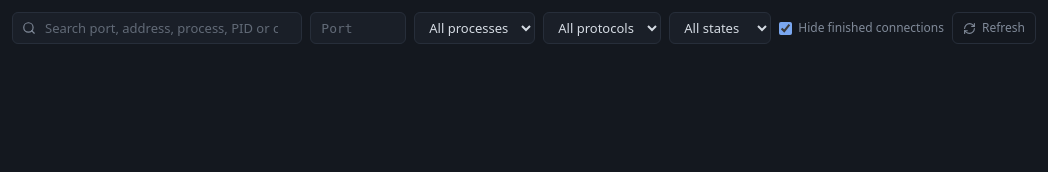
Test: PortsToolbar › offers Clear filters only when something differs from the defaults
Expected: the button "Clear filters" is not shown
Select "hugo.exe" in the 1st dropdown named "Process". click: (475, 28)
box: left=414, top=12, right=535, bottom=44
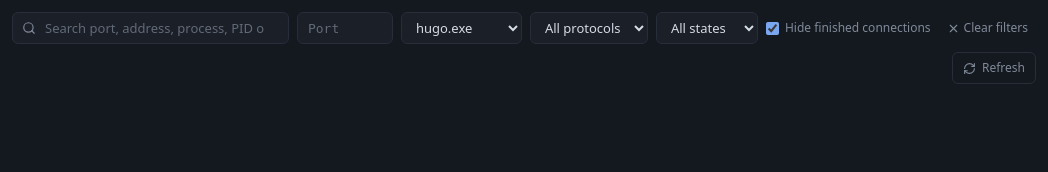
Click the button "Clear filters". click: (987, 28)
box: left=939, top=12, right=1036, bottom=44
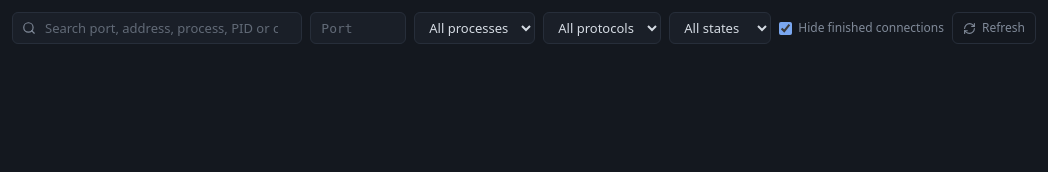
Result: the button "Clear filters" is gone
